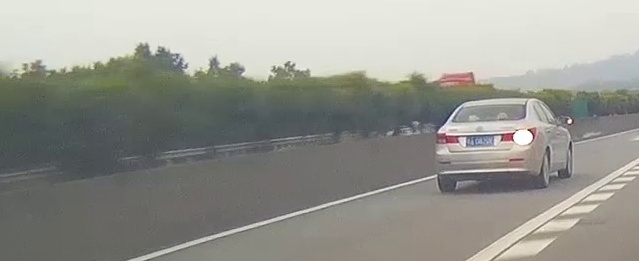L_light: (435, 132, 460, 144)
R_light: (500, 127, 537, 145)
T_light: (478, 119, 495, 121)
day-right: (435, 97, 540, 193)
